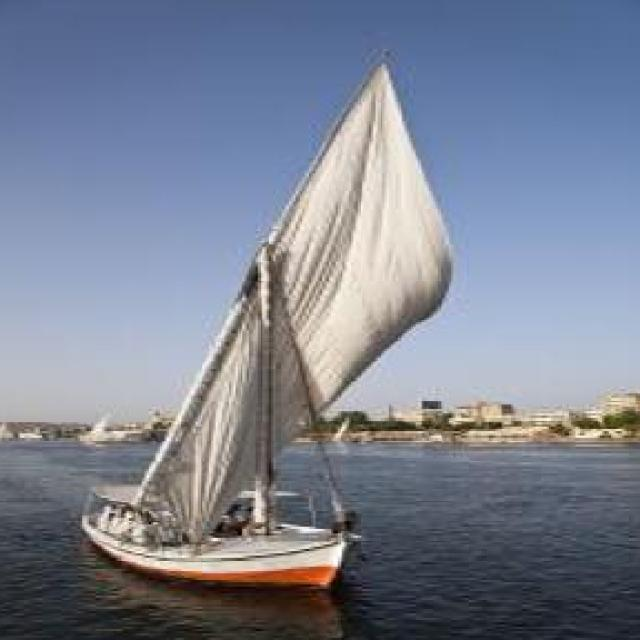sailboat: (68, 48, 448, 591)
